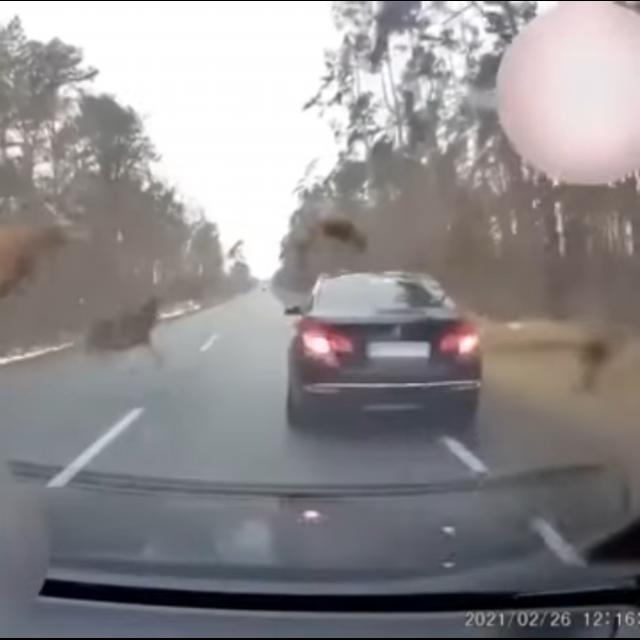elk: (58, 290, 187, 410), (260, 188, 379, 269), (1, 184, 68, 323), (565, 316, 640, 425)
